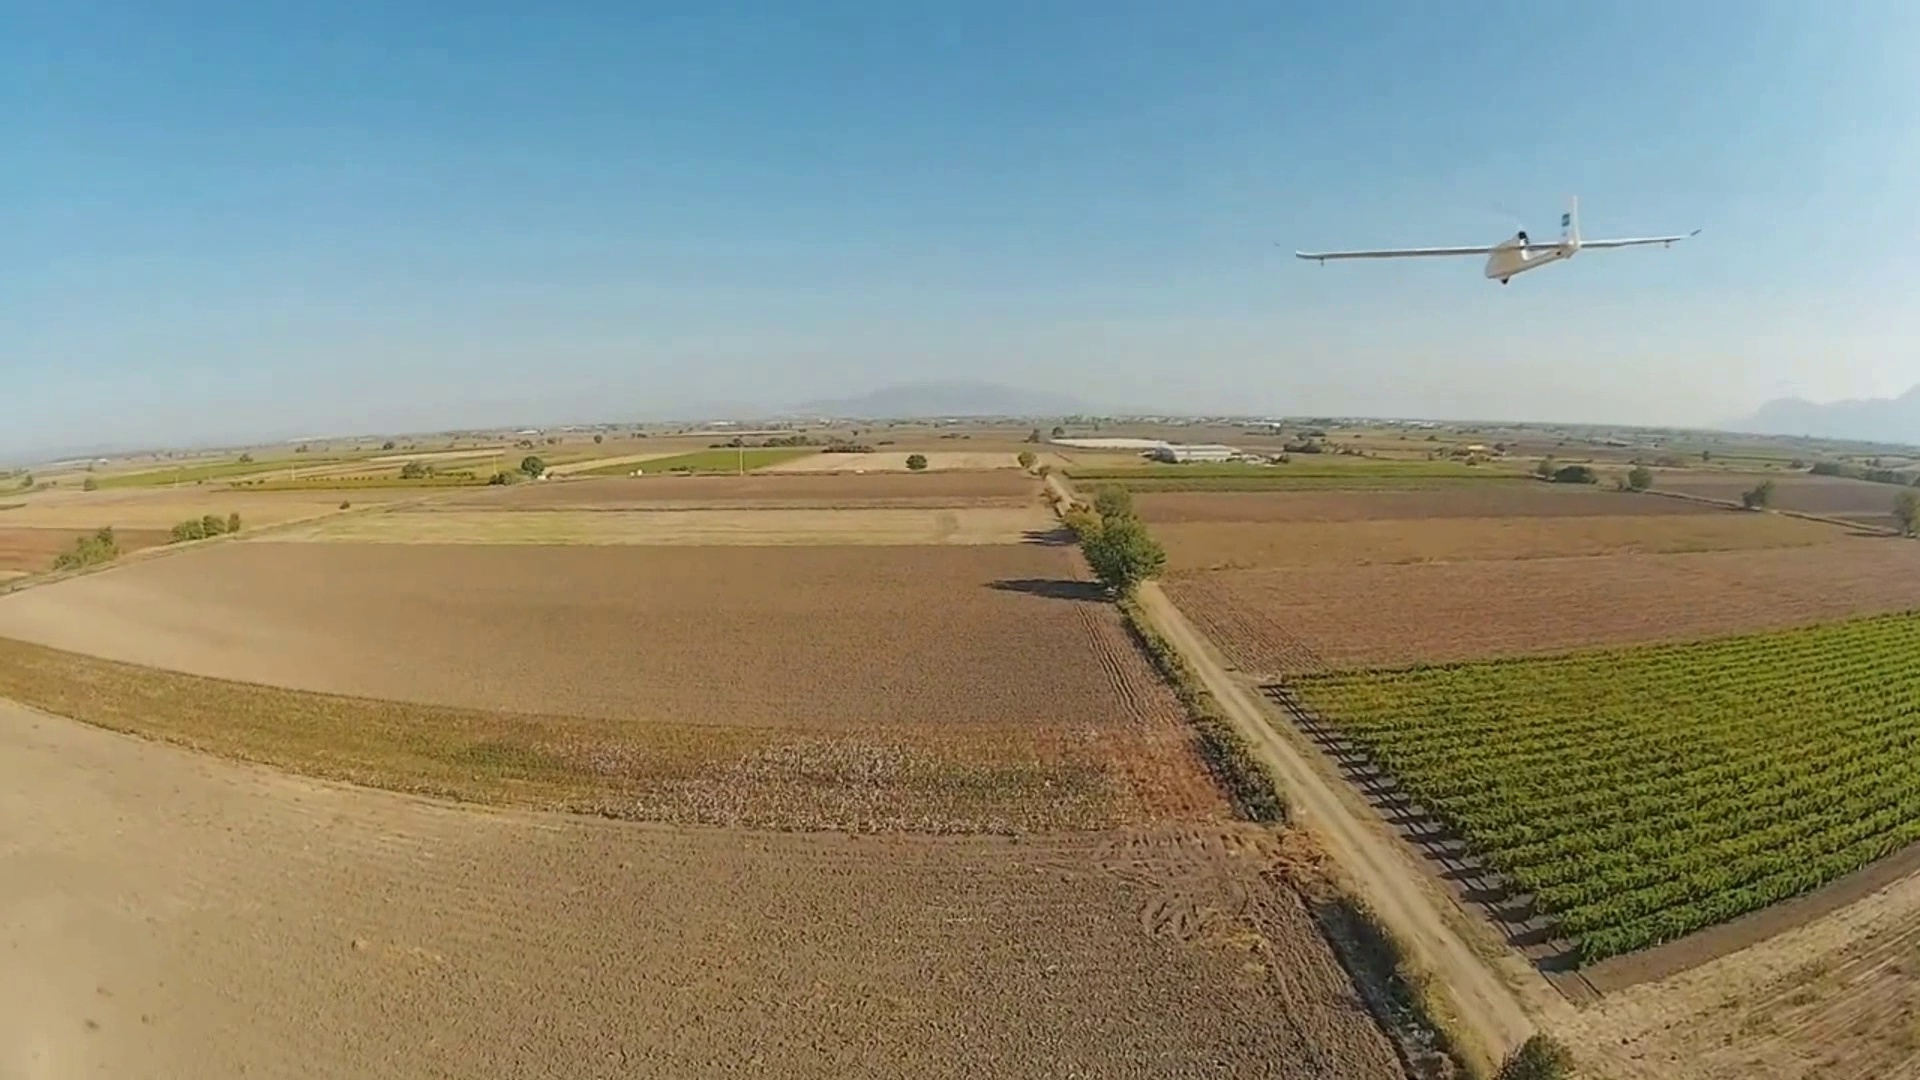airplane: (1291, 200, 1698, 286)
